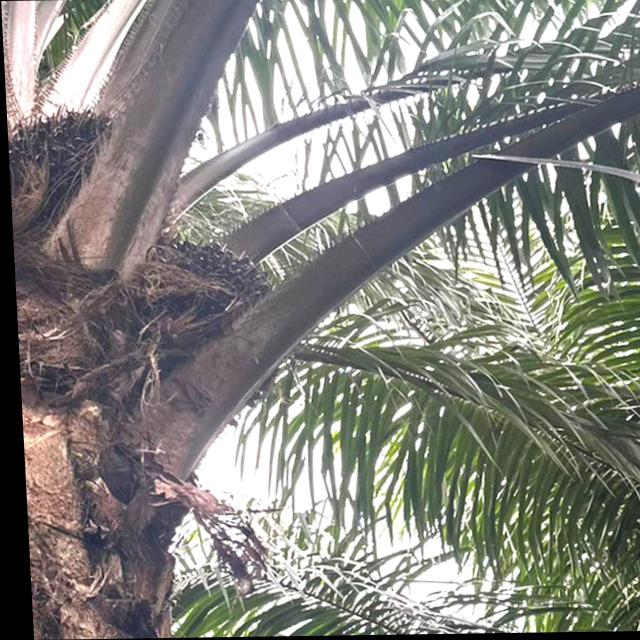almost: (129, 232, 285, 382)
